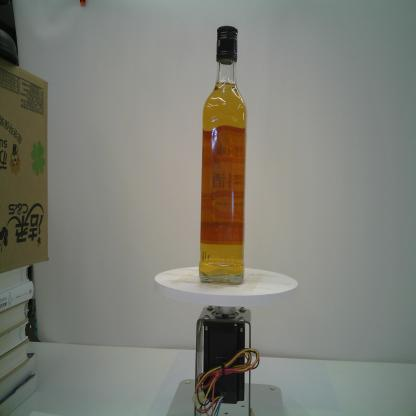Seasoner: (199, 25, 248, 286)
